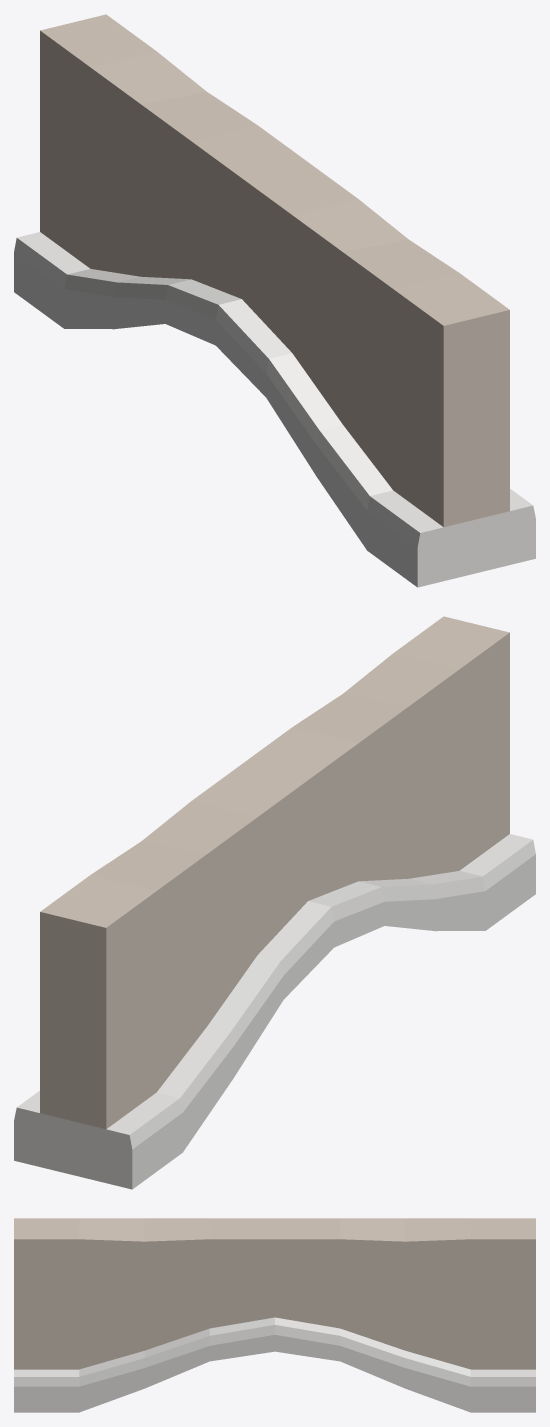
File: ArcWall01_house_01.fbx
3 views of the same model, one above another, from view 1: azimuth 30°, elevation 25°; view 2: azimuth 150°, elevation 25°; view 3: azimuth 270°, elevation 25° (orthographic). The views are drawn at different scales.
Visible parts, largest first — view 1: ArcWall01; view 2: ArcWall01; view 3: ArcWall01.
Boxes of the visible parts, x1,y1,x2,y2 form: ArcWall01: [14, 14, 535, 587]; ArcWall01: [14, 616, 535, 1189]; ArcWall01: [14, 1218, 535, 1412].
Bounding box in the file's own units: 83.74 × 173 × 495.
